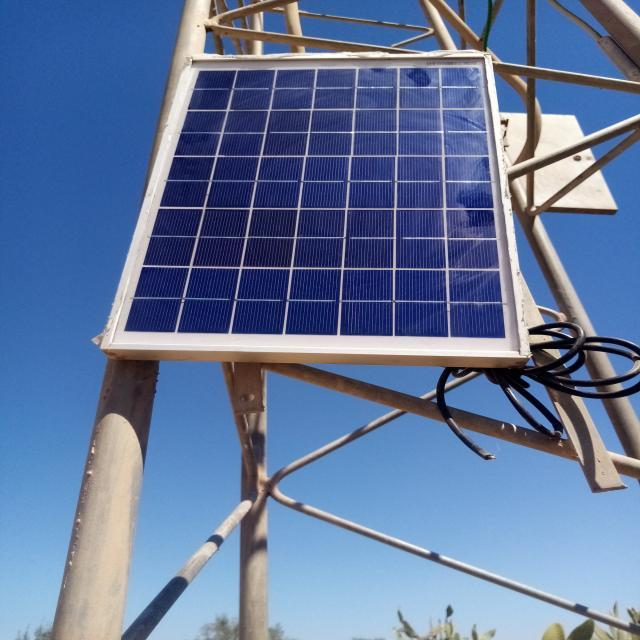no faulty: (105, 54, 526, 354)
